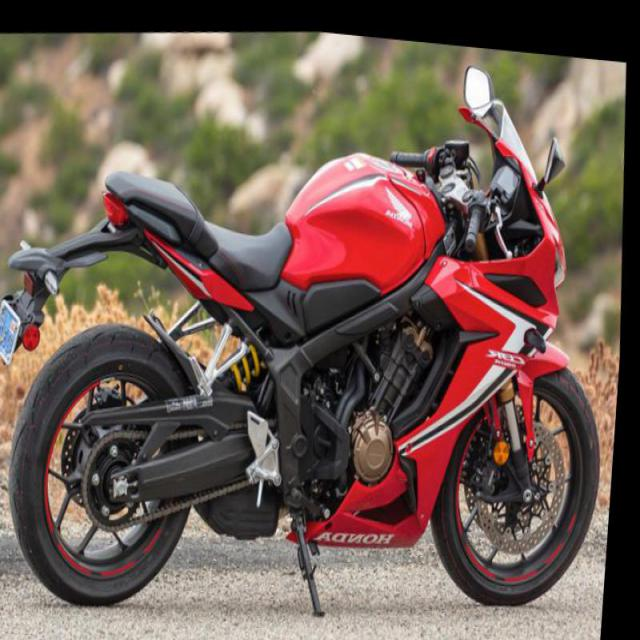CBR650R: (0, 0, 634, 639)
